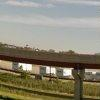Bridge: (3, 32, 94, 82)
